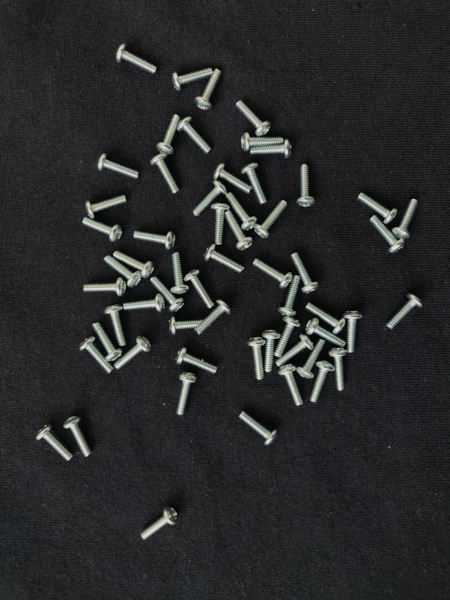shortscrew: (36, 424, 74, 463), (177, 116, 214, 155), (239, 412, 280, 446), (387, 293, 424, 330), (254, 201, 290, 239), (115, 44, 159, 75), (193, 180, 229, 217), (276, 333, 314, 368), (64, 415, 94, 459), (306, 303, 346, 336), (150, 154, 181, 196), (150, 277, 186, 313), (78, 336, 113, 373), (237, 100, 272, 137), (371, 216, 405, 254), (253, 258, 294, 289), (196, 299, 231, 335), (141, 506, 178, 540), (114, 336, 152, 369), (358, 193, 398, 224), (291, 252, 320, 294), (104, 257, 143, 288), (278, 275, 306, 318), (184, 269, 214, 309), (213, 163, 253, 193), (297, 340, 327, 380), (204, 245, 245, 274), (196, 68, 223, 112), (278, 365, 305, 409), (227, 193, 258, 231), (92, 323, 122, 362), (242, 162, 269, 205), (175, 348, 219, 374), (225, 212, 254, 251), (274, 317, 301, 358), (113, 252, 155, 278), (309, 361, 335, 403), (392, 199, 418, 240), (85, 194, 128, 218), (172, 67, 215, 91), (83, 218, 123, 243), (246, 337, 267, 384), (98, 154, 139, 178), (105, 305, 127, 347), (157, 115, 180, 155), (261, 330, 282, 373), (176, 372, 196, 415), (297, 165, 317, 208), (134, 231, 177, 251), (251, 140, 293, 160), (124, 293, 165, 313), (241, 133, 284, 152), (344, 310, 363, 353), (211, 203, 230, 246), (171, 252, 190, 294), (329, 347, 347, 391), (84, 278, 127, 296), (169, 318, 205, 336)
